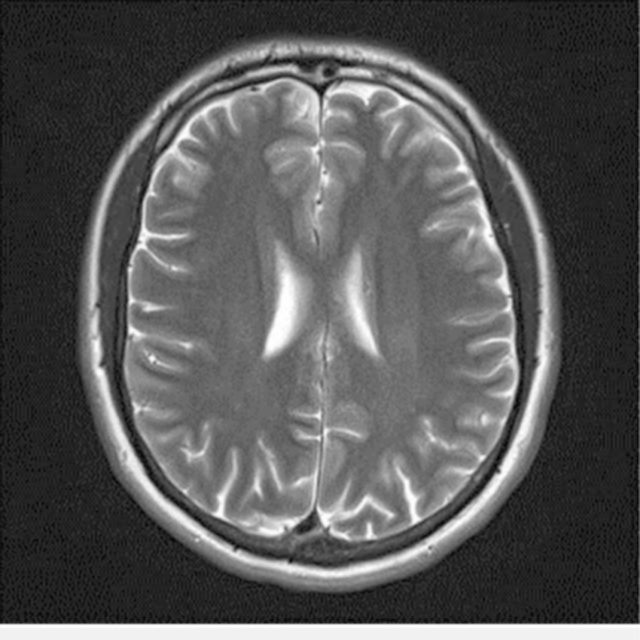glioma tumor: (160, 102, 489, 510)
